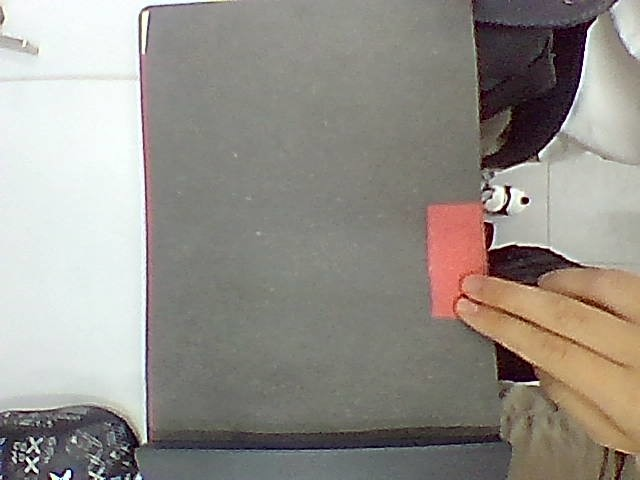card: (427, 201, 486, 318)
